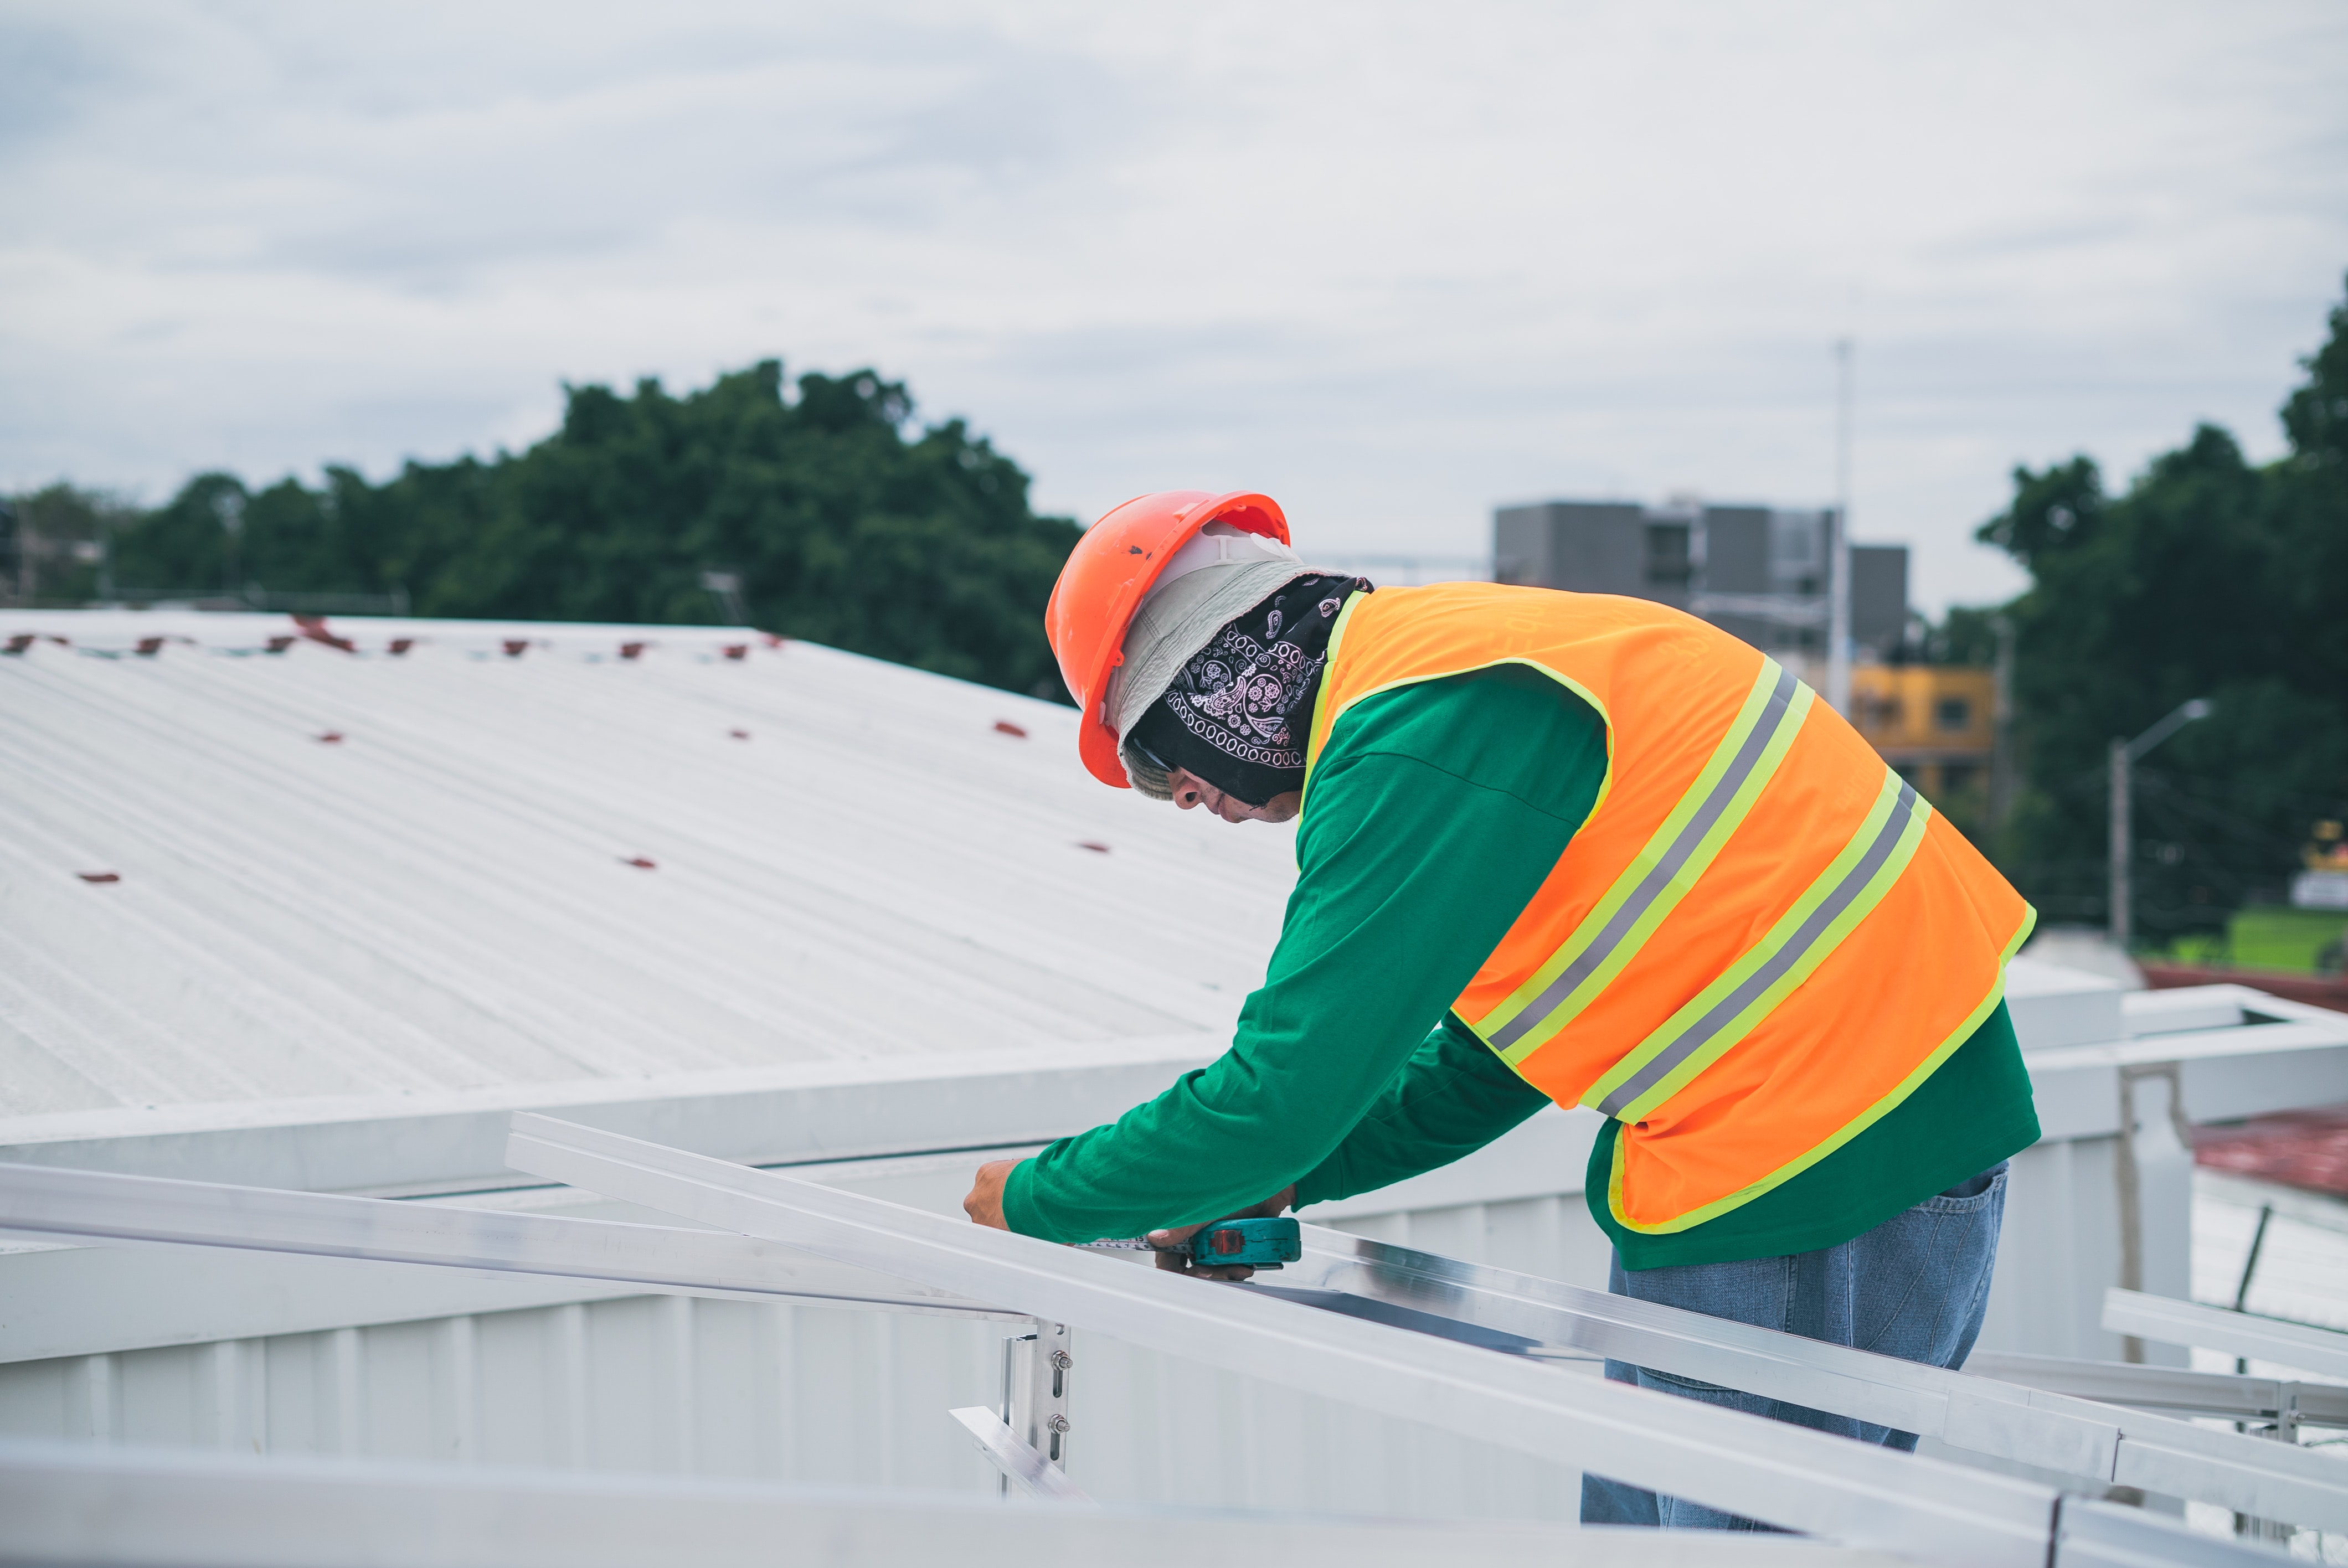Helmet: (1038, 474, 1386, 836)
Reflective vest: (1305, 569, 2042, 1255)
